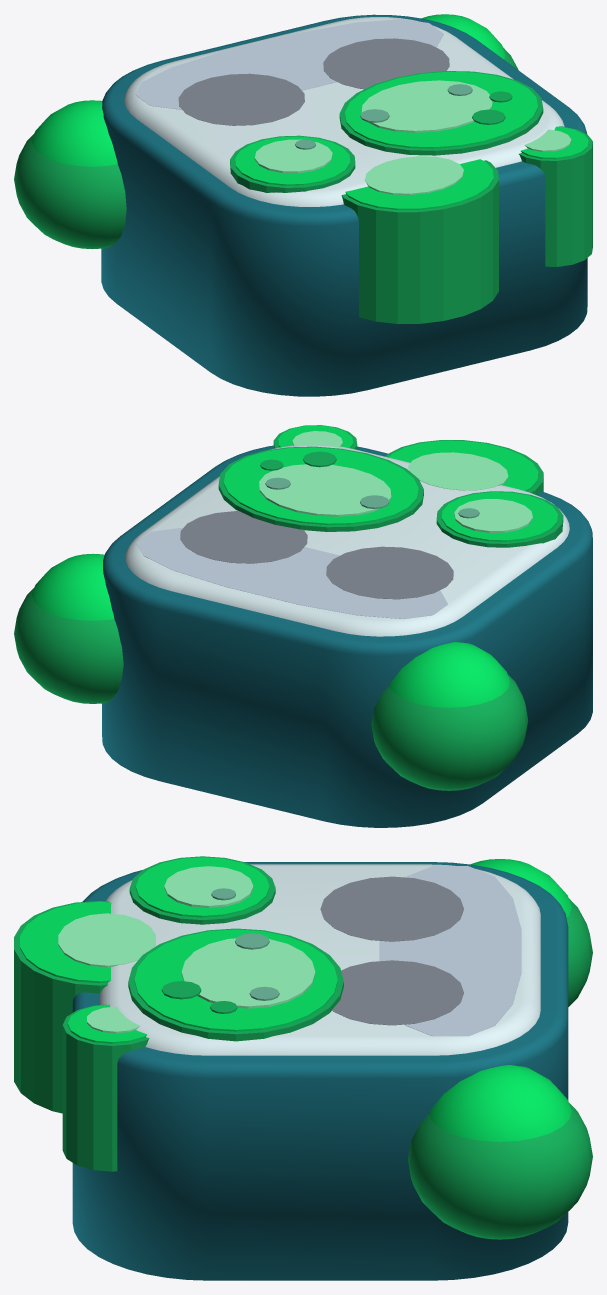
Rendered from body_frasco_limo.fbx.
3 renders of one model, top to bottom at view 1: azimuth 30°, elevation 25°; view 2: azimuth 150°, elevation 25°; view 3: azimuth 270°, elevation 25°, orthographic. The views are drawn at different scales.
Parts seen in each view (by area): view 1: body_frasco_limo_corpo, body_frasco_limo_mao_esq, body_frasco_limo_mao; view 2: body_frasco_limo_corpo, body_frasco_limo_mao_esq, body_frasco_limo_mao; view 3: body_frasco_limo_corpo, body_frasco_limo_mao, body_frasco_limo_mao_esq.
Part boxes in pixels (x1=…): body_frasco_limo_corpo: x1=101, y1=14, x2=592, y2=396; body_frasco_limo_mao_esq: x1=14, y1=100, x2=126, y2=249; body_frasco_limo_mao: x1=422, y1=14, x2=518, y2=69; body_frasco_limo_corpo: x1=102, y1=425, x2=592, y2=827; body_frasco_limo_mao_esq: x1=371, y1=642, x2=528, y2=790; body_frasco_limo_mao: x1=14, y1=553, x2=123, y2=703; body_frasco_limo_corpo: x1=14, y1=856, x2=568, y2=1280; body_frasco_limo_mao: x1=408, y1=1065, x2=592, y2=1239; body_frasco_limo_mao_esq: x1=470, y1=859, x2=592, y2=1006.
Size of the model in its own units: 5.4 by 2.11 by 4.67.
1 material, 1 textured.
